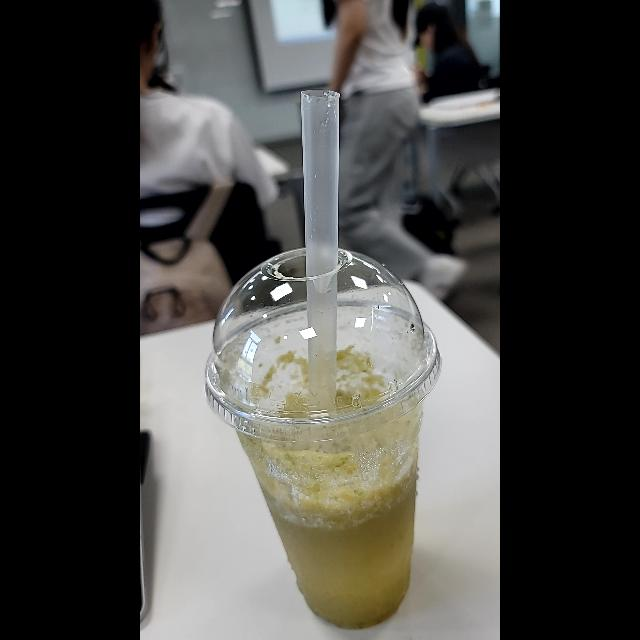plastic_cup: (204, 242, 446, 630)
plastic_cup_lid: (205, 245, 450, 438)
straw: (298, 88, 344, 406)
